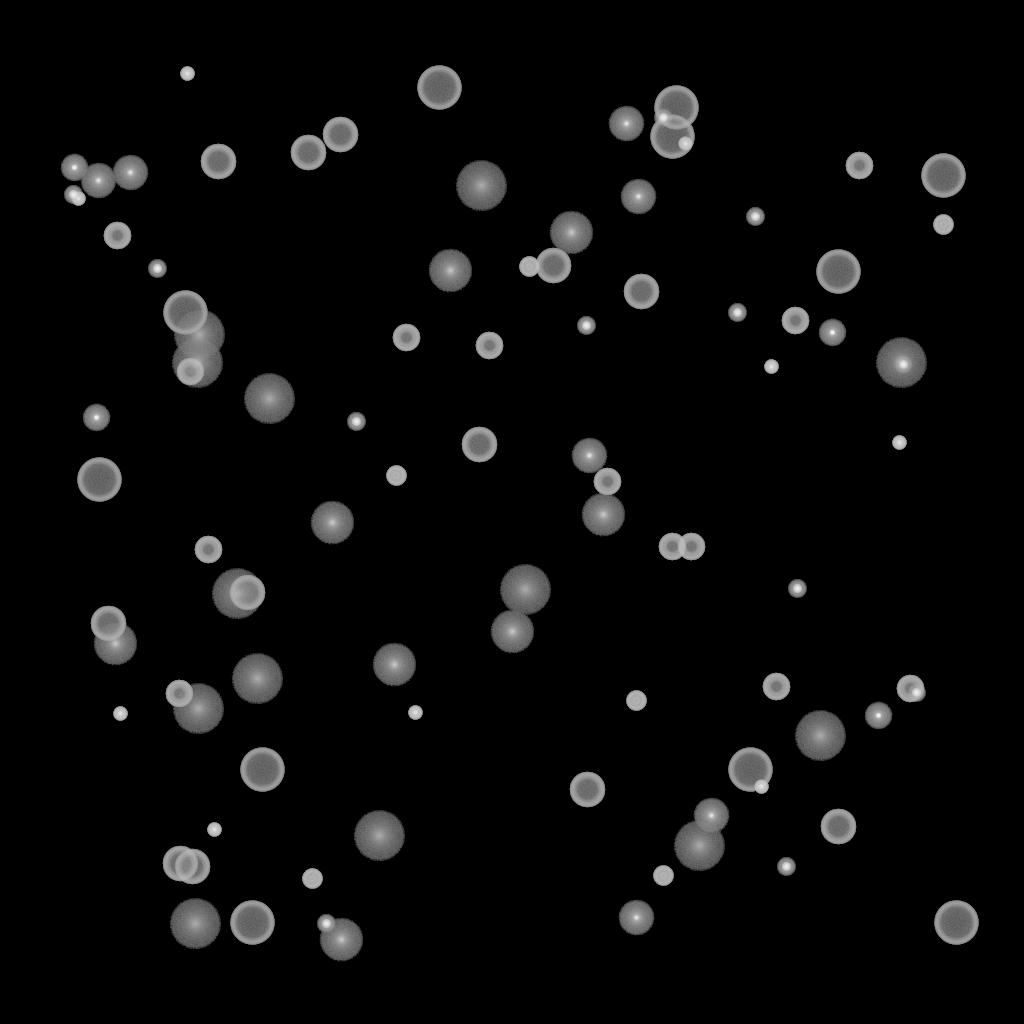depth:-10: (82, 404, 110, 432), (818, 319, 846, 347), (60, 154, 88, 182), (864, 702, 892, 730)
depth:-20: (317, 915, 335, 933), (577, 317, 595, 335), (907, 684, 925, 702), (894, 356, 912, 374), (654, 109, 672, 127), (746, 208, 764, 226), (148, 260, 166, 278), (728, 304, 746, 322), (777, 858, 795, 876), (788, 580, 806, 598), (64, 186, 82, 204), (347, 413, 365, 431)
depth:-30: (678, 137, 692, 151), (207, 823, 221, 837), (71, 192, 85, 206), (408, 706, 422, 720), (180, 67, 194, 81), (892, 436, 906, 450), (113, 707, 127, 721), (754, 780, 768, 794), (764, 360, 778, 374)
depth:-40: (302, 869, 322, 889), (519, 257, 539, 277), (386, 466, 406, 486), (653, 866, 673, 886), (626, 691, 646, 711), (933, 215, 953, 235)
depth:-50: (762, 673, 790, 701), (593, 468, 621, 496), (781, 307, 809, 335), (176, 358, 204, 386), (103, 222, 131, 250), (194, 536, 222, 564), (392, 324, 420, 352), (677, 533, 705, 561), (845, 152, 873, 180), (165, 680, 193, 708), (475, 332, 503, 360), (896, 675, 924, 703), (658, 533, 686, 561)
depth:-60: (322, 117, 358, 153), (174, 849, 210, 885), (162, 846, 198, 882), (820, 809, 856, 845), (290, 135, 326, 171), (229, 575, 265, 611), (90, 606, 126, 642), (461, 427, 497, 463), (535, 248, 571, 284), (623, 274, 659, 310), (569, 772, 605, 808), (200, 144, 236, 180)
depth:-70: (230, 901, 274, 945), (163, 291, 207, 335), (654, 86, 698, 130), (650, 115, 694, 159), (728, 748, 772, 792), (921, 154, 965, 198), (417, 66, 461, 110), (816, 250, 860, 294), (240, 748, 284, 792), (934, 901, 978, 945), (77, 458, 121, 502)
depth:0: (571, 438, 607, 474), (620, 179, 656, 215), (618, 900, 654, 936), (112, 155, 148, 191), (80, 163, 116, 199), (693, 798, 729, 834), (608, 106, 644, 142)
depth:10: (428, 249, 472, 293), (319, 918, 363, 962), (581, 493, 625, 537), (93, 622, 137, 666), (310, 501, 354, 545), (549, 211, 593, 255), (490, 610, 534, 654), (372, 643, 416, 687)
depth:20: (173, 310, 225, 360), (243, 374, 295, 424), (169, 899, 221, 949), (499, 565, 551, 615), (794, 711, 846, 761), (171, 338, 223, 388), (875, 338, 927, 388), (455, 161, 507, 211), (211, 569, 263, 619), (231, 654, 283, 704), (673, 821, 725, 871), (353, 811, 405, 861), (172, 684, 224, 734)
